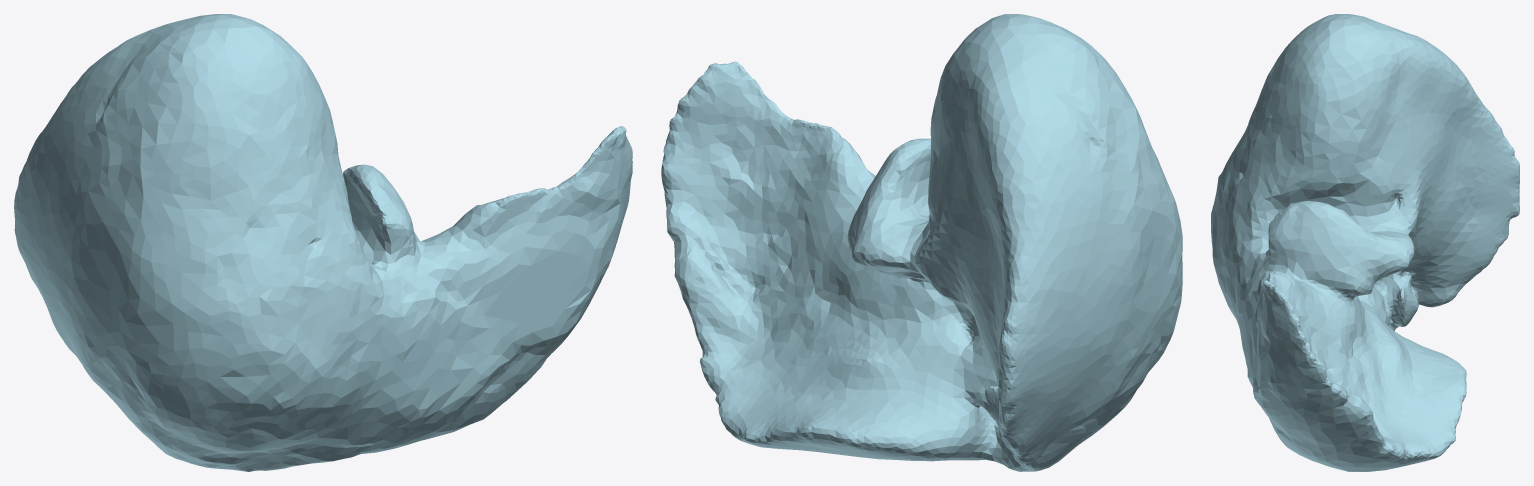
The model's file is liver.obj.
3 views of the same model, side by side, from view 1: azimuth 30°, elevation 25°; view 2: azimuth 150°, elevation 25°; view 3: azimuth 270°, elevation 25° (orthographic). The views are drawn at different scales.
Visible parts, largest first — view 1: grp1; view 2: grp1; view 3: grp1.
Part boxes in pixels (<box>): grp1: <box>14,14,632,471</box>; grp1: <box>661,14,1182,471</box>; grp1: <box>1211,14,1519,471</box>.
Size of the model in its own units: 226 by 190 by 147.
